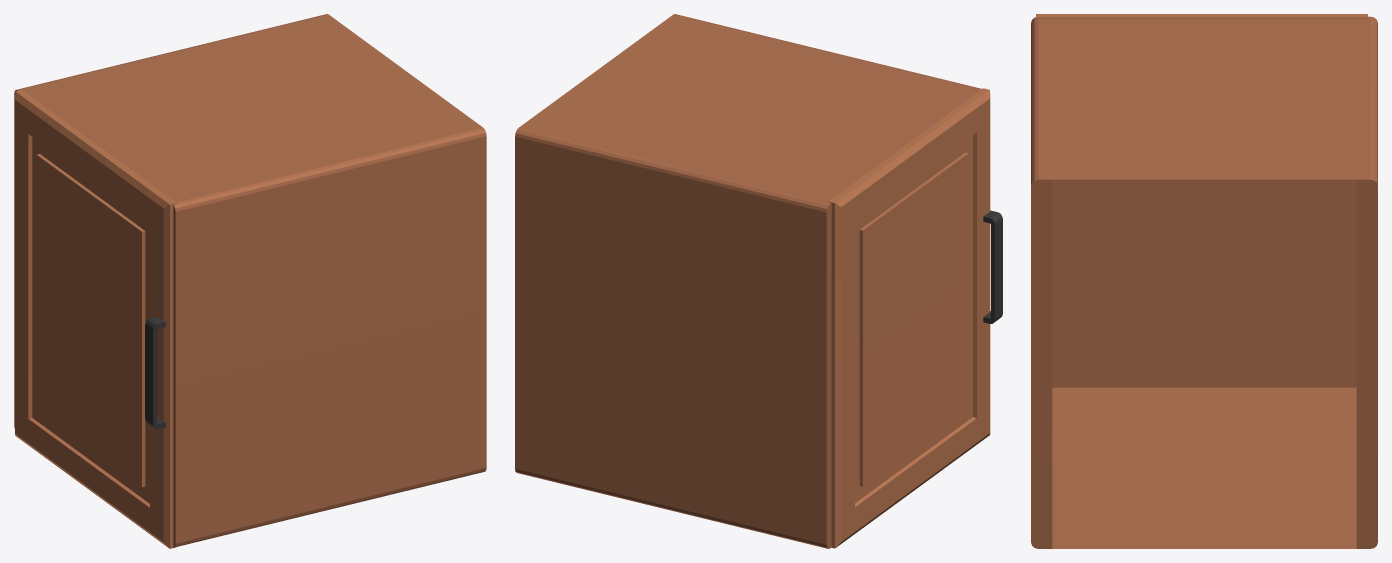
Rendered from KitchenCupBoard.fbx.
3 views of the same model, side by side, from view 1: azimuth 30°, elevation 25°; view 2: azimuth 150°, elevation 25°; view 3: azimuth 270°, elevation 25° (orthographic). The views are drawn at different scales.
Parts seen in each view (by area): view 1: kitchencupboard; view 2: kitchencupboard; view 3: kitchencupboard.
Boxes of the visible parts, x1,y1,x2,y2 form: kitchencupboard: [14, 14, 486, 548]; kitchencupboard: [515, 14, 1002, 548]; kitchencupboard: [1031, 14, 1377, 548].
Bounding box in the file's own units: 54.2 × 54.15 × 46.
1 material, 1 textured.
